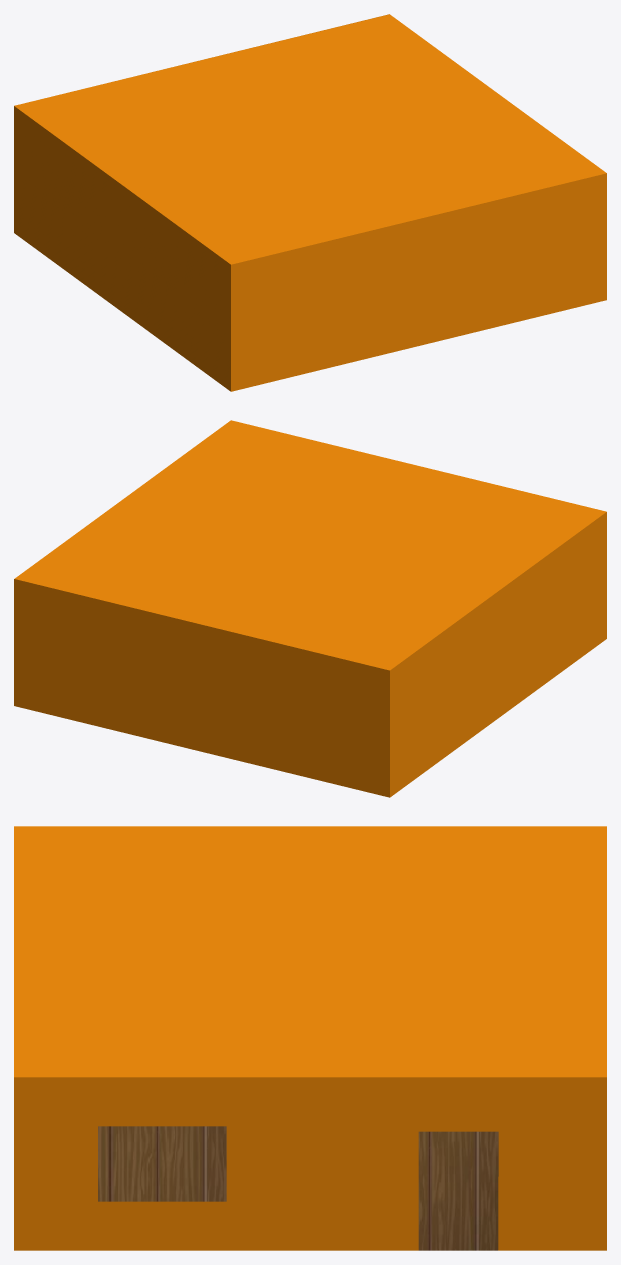
File: Molde_casa_projeto_trello.fbx
The picture shows the model from 3 angles, top to bottom: view 1: azimuth 30°, elevation 25°; view 2: azimuth 150°, elevation 25°; view 3: azimuth 270°, elevation 25°; orthographic projection. The views are drawn at different scales.
Visible parts, largest first — view 1: Cube; view 2: Cube; view 3: Cube.
Part boxes in pixels (left/top/right/bottom): Cube: left=14, top=14, right=606, bottom=391; Cube: left=14, top=420, right=606, bottom=797; Cube: left=14, top=826, right=606, bottom=1250.
Size of the model in its own units: 10541 by 3408 by 10541.
